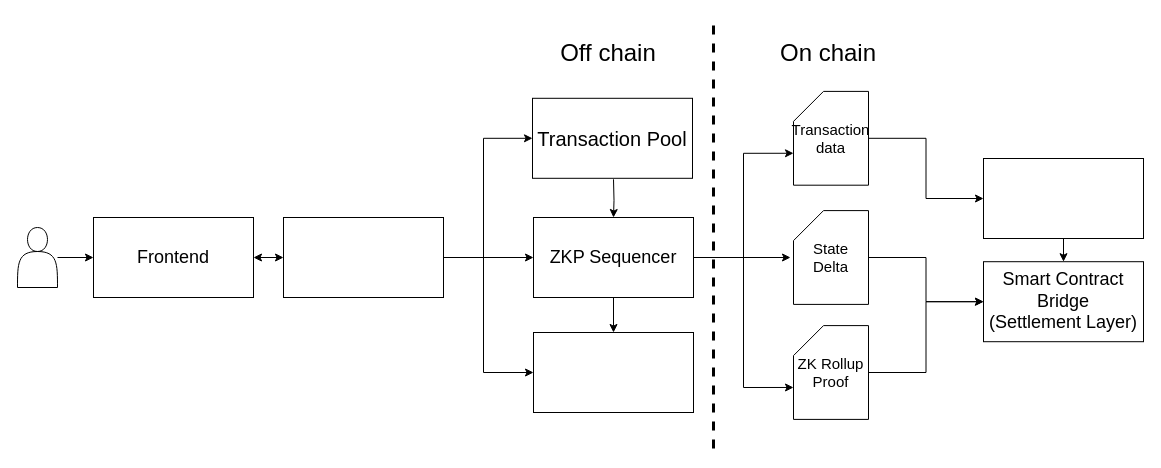
The diagram is 1161 pixels wide and 468 high, and some of its shapes have lost their labels. Here are the shapes that lost their labels. From the top down, the centre of each, then its label:
At pixel 1063 198: "Data Availability Layer".
At pixel 363 257: "API".
At pixel 613 372: "Indexer".
